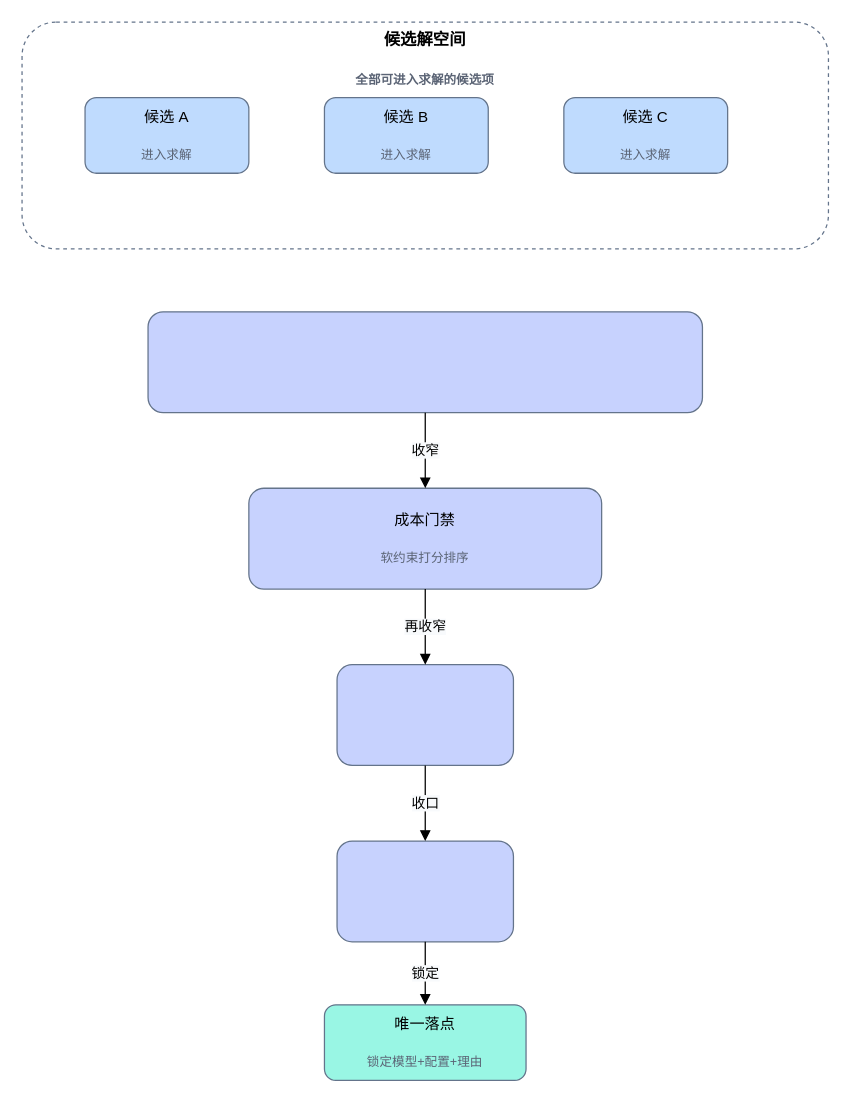
Some shapes in this 851 by 1103 pixel diagram are drawn without their labels. Each missing label, with the centre of its shape:
能力门禁 硬约束硬性排他: (x=424, y=362)
速度门禁 继续收窄一档: (x=424, y=714)
门禁收口 显式失败或选中: (x=424, y=891)
